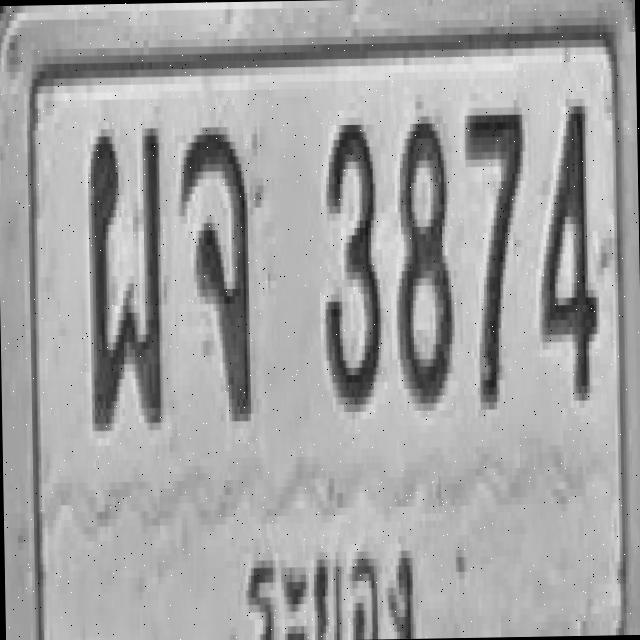17ChorChan: (178, 122, 252, 418)
3: (319, 117, 382, 412)
37PhorPhueng: (86, 120, 164, 430)
4: (535, 98, 598, 400)
7: (464, 100, 527, 410)
8: (393, 111, 453, 406)
Rayong: (236, 520, 427, 640)
